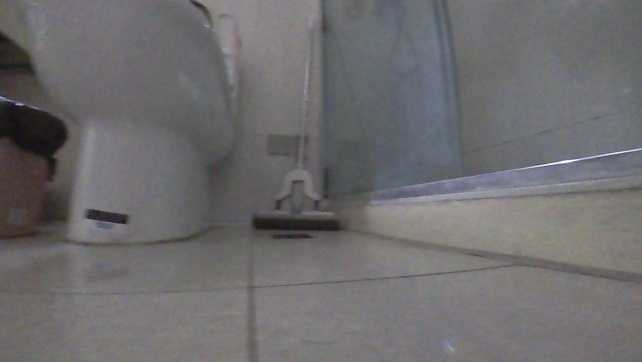toilet: (19, 0, 241, 245)
trash_can: (0, 93, 69, 240)
